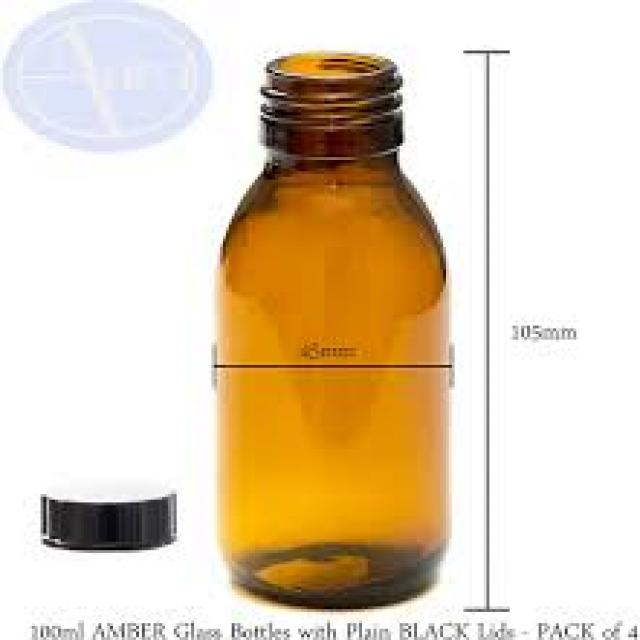Glass: (223, 51, 449, 609)
